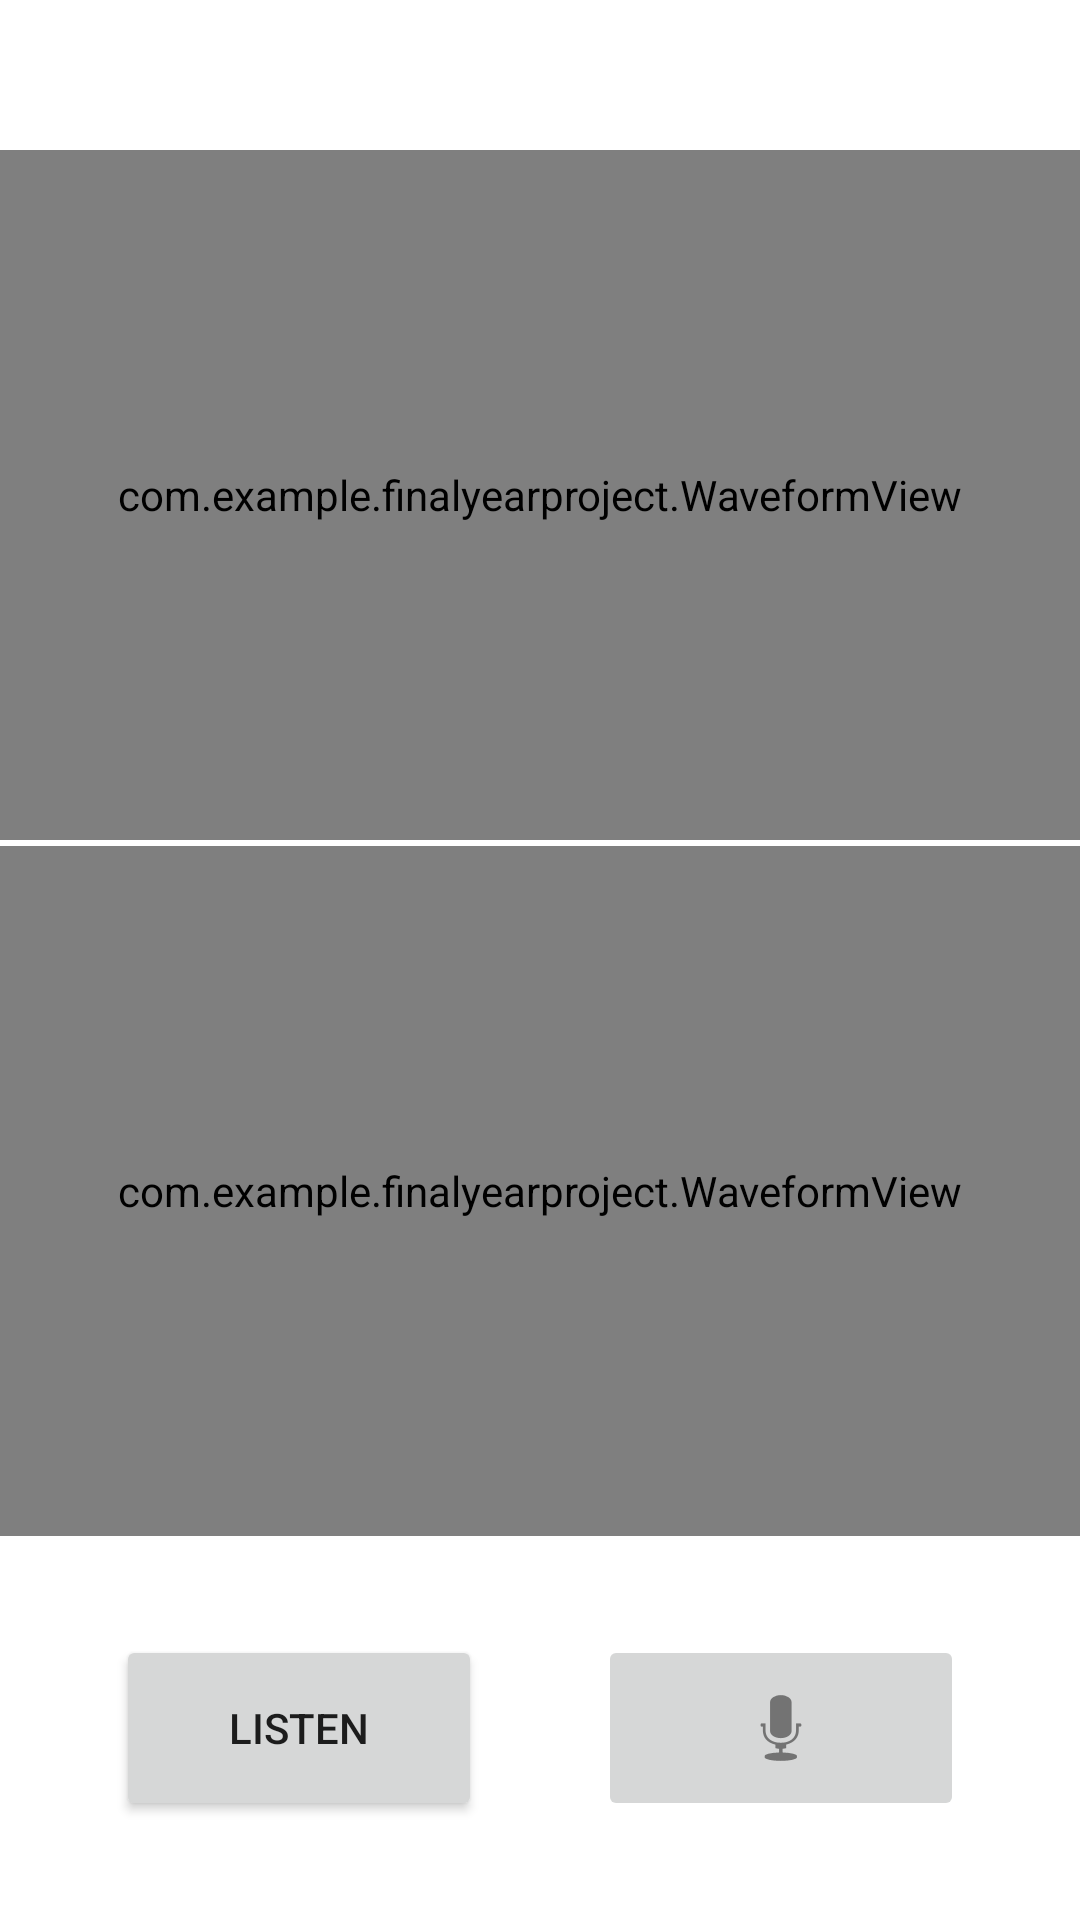

Icon bounding boxes for this 1080px×1920px phone screenshot, format {"left": x1, "top": y1, "right": x2, "bottom": y2}:
speak now: {"left": 610, "top": 1653, "right": 952, "bottom": 1803}
